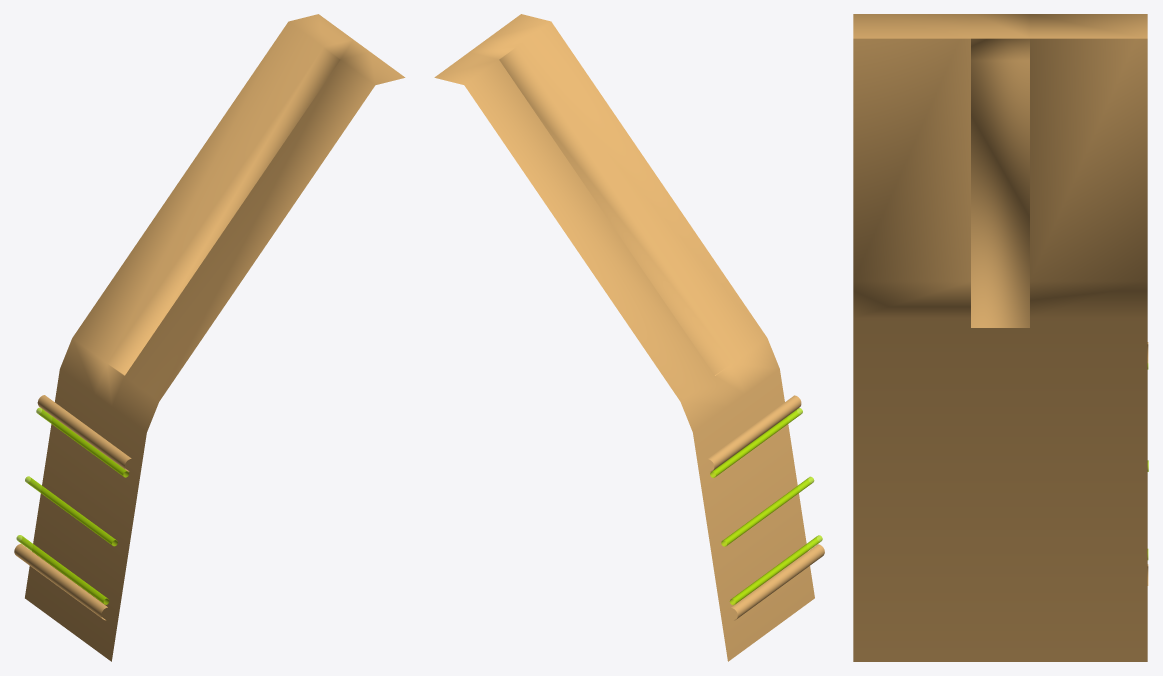
Rendered from mod_inter_wallPanel.fbx.
3 renders of one model, left to right at view 1: azimuth 30°, elevation 25°; view 2: azimuth 150°, elevation 25°; view 3: azimuth 270°, elevation 25°, orthographic. The views are drawn at different scales.
Parts seen in each view (by area): view 1: mod_inter_wallPanel; view 2: mod_inter_wallPanel; view 3: mod_inter_wallPanel.
Part boxes in pixels (x1,y1,x2,y2): mod_inter_wallPanel: (14,14,405,661); mod_inter_wallPanel: (434,14,824,661); mod_inter_wallPanel: (853,14,1148,661).
Bounding box in the file's own units: 403 × 650 × 201.
